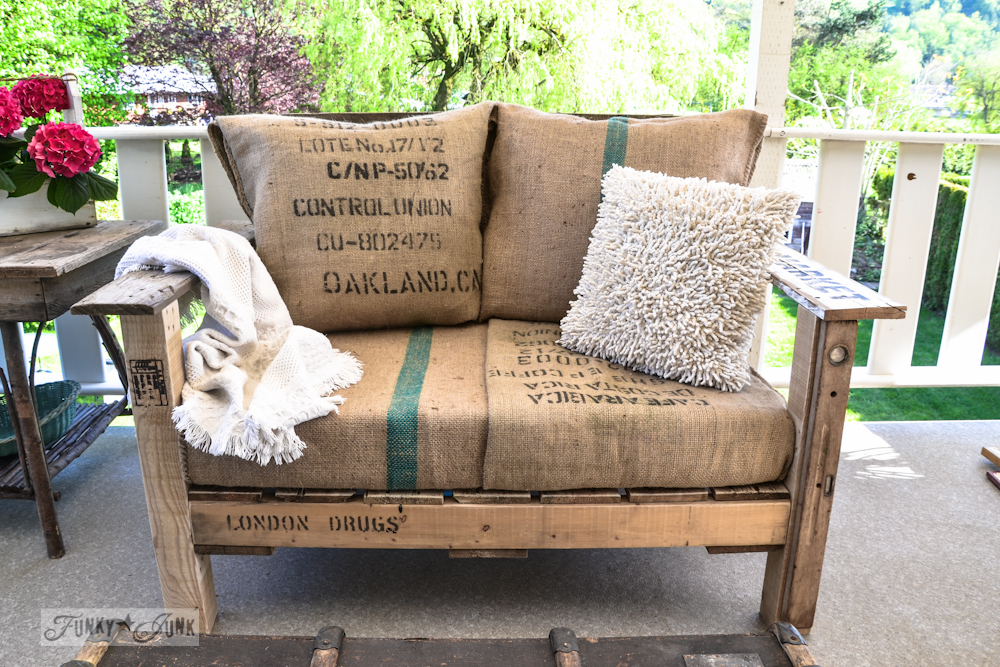chairs: (74, 103, 908, 633)
